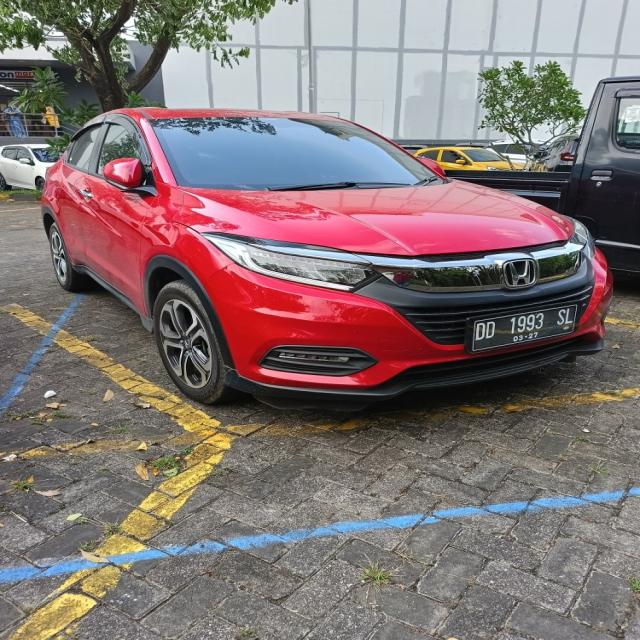plates: (470, 304, 582, 355)
